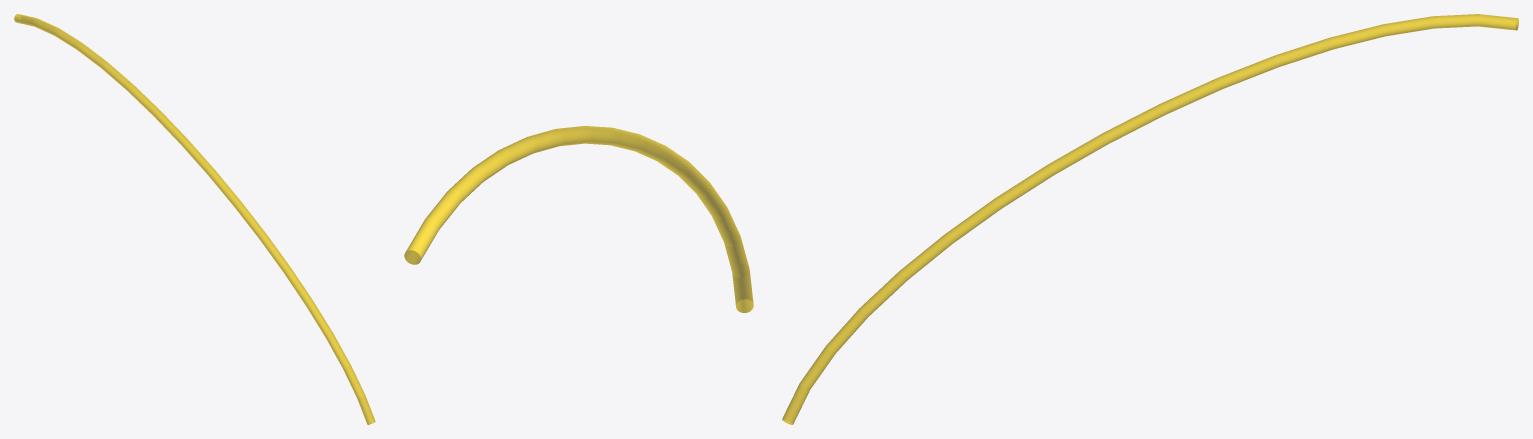
Rendered from Event_17758602_track_48.fbx.
The picture shows the model from 3 angles, left to right: view 1: azimuth 30°, elevation 25°; view 2: azimuth 150°, elevation 25°; view 3: azimuth 270°, elevation 25°; orthographic projection. The views are drawn at different scales.
Visible parts, largest first — view 1: Model; view 2: Model; view 3: Model.
Part boxes in pixels (x1,y1,x2,y2): Model: (14,14,375,424); Model: (404,126,753,312); Model: (782,14,1518,424).
Bounding box in the file's own units: 0.5279 × 1.24 × 2.37.
